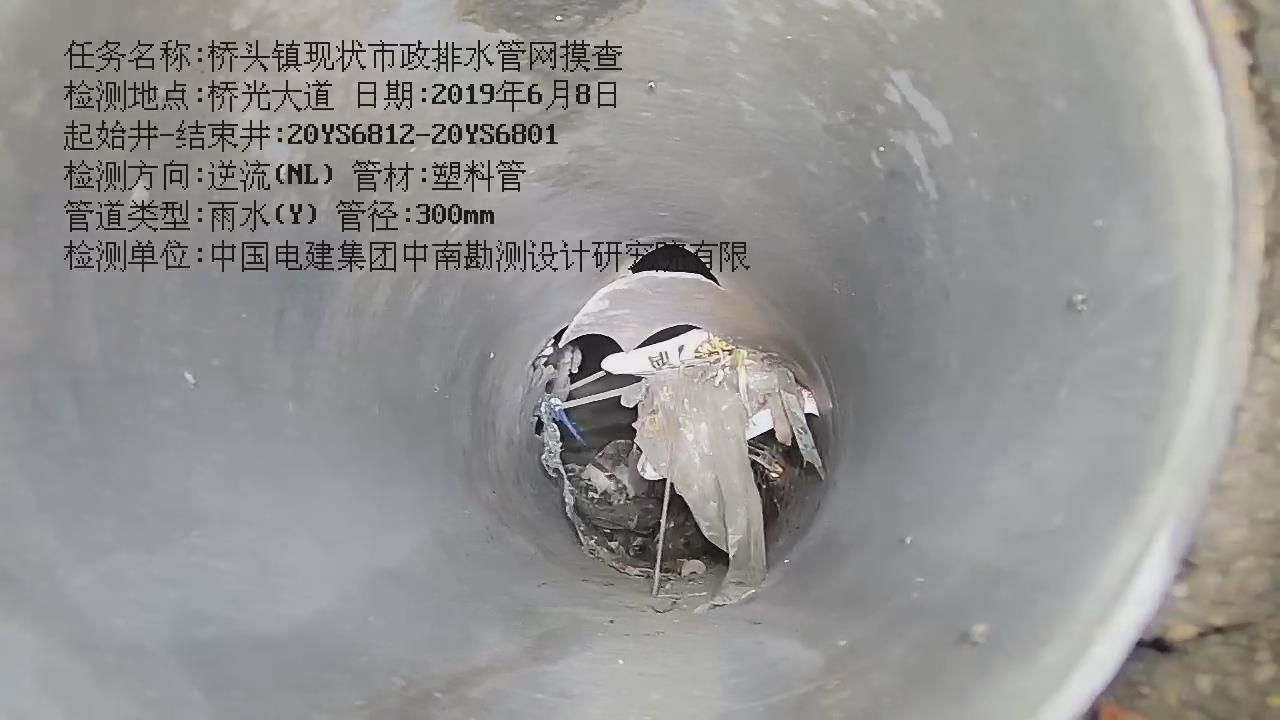PL: (543, 225, 833, 612)
